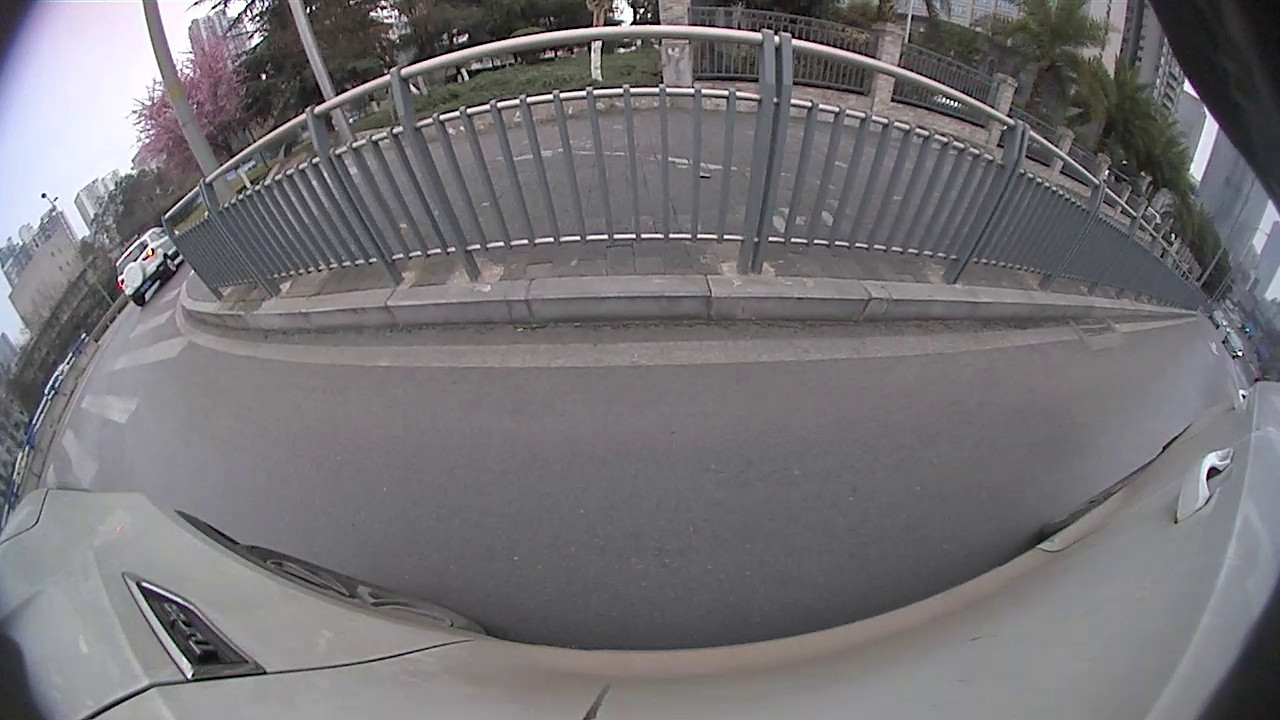car: (112, 223, 182, 308)
rear: (163, 255, 179, 275)
